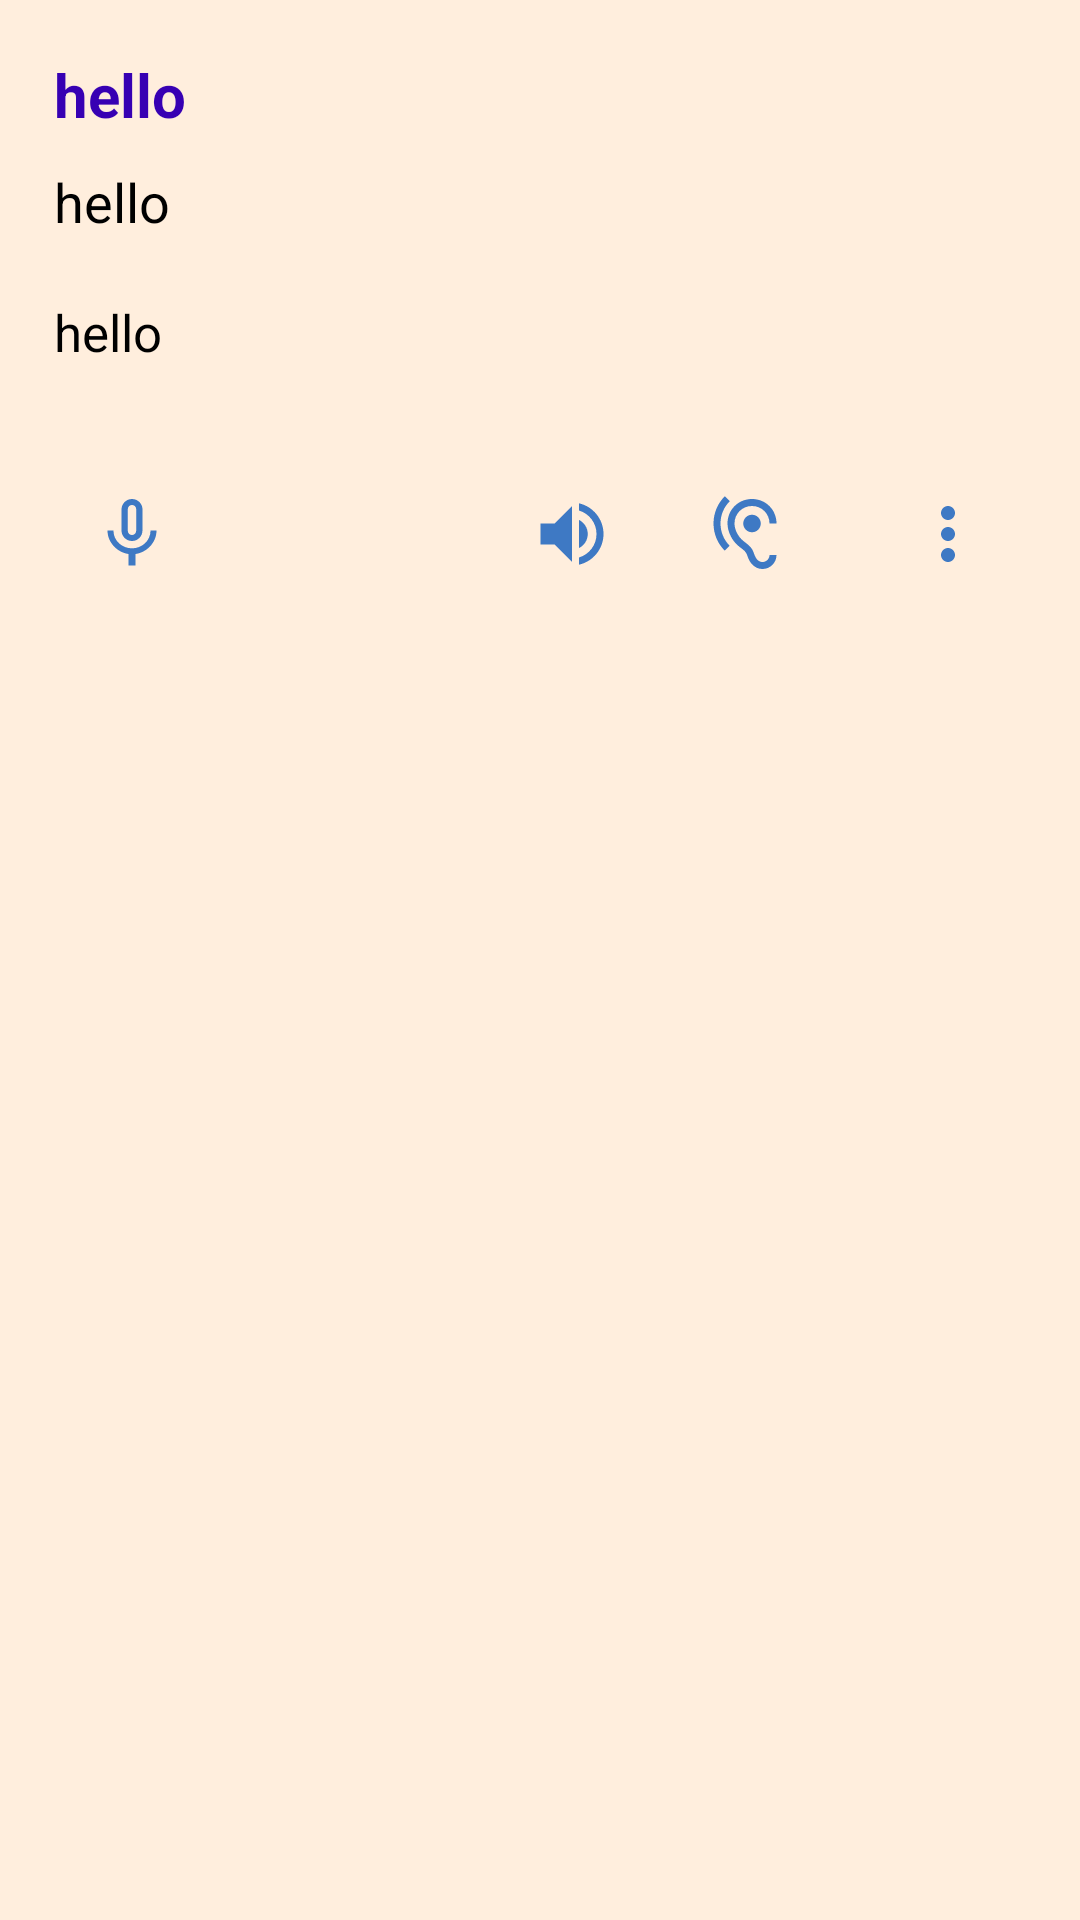

Icon click points for this 1080×1920 phone screenshot, format point (x, y):
hearing: point (745, 532)
mic: point (132, 532)
more: point (948, 534)
volume: point (572, 534)
